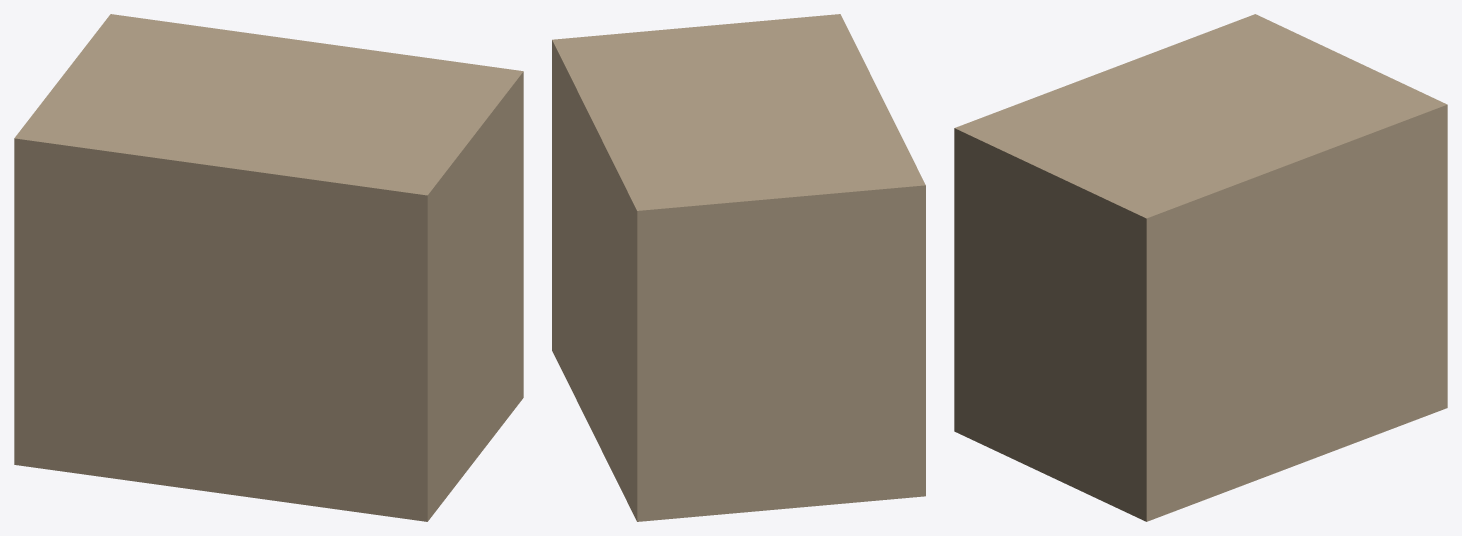
The model's file is bld_55879433.dae.
3 views of the same model, side by side, from view 1: azimuth 30°, elevation 25°; view 2: azimuth 150°, elevation 25°; view 3: azimuth 270°, elevation 25° (orthographic). The views are drawn at different scales.
Parts seen in each view (by area): view 1: bld_55879433; view 2: bld_55879433; view 3: bld_55879433.
Part boxes in pixels (<box>): bld_55879433: <box>14,14,523,521</box>; bld_55879433: <box>552,14,925,521</box>; bld_55879433: <box>954,14,1447,521</box>.
Bounding box in the file's own units: 11.56 × 11.78 × 8.
